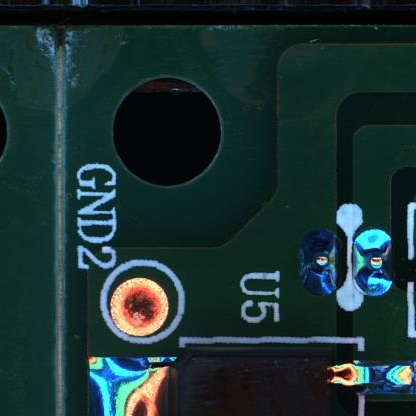spot: (111, 276, 168, 334), (351, 228, 393, 297), (298, 228, 338, 295)
